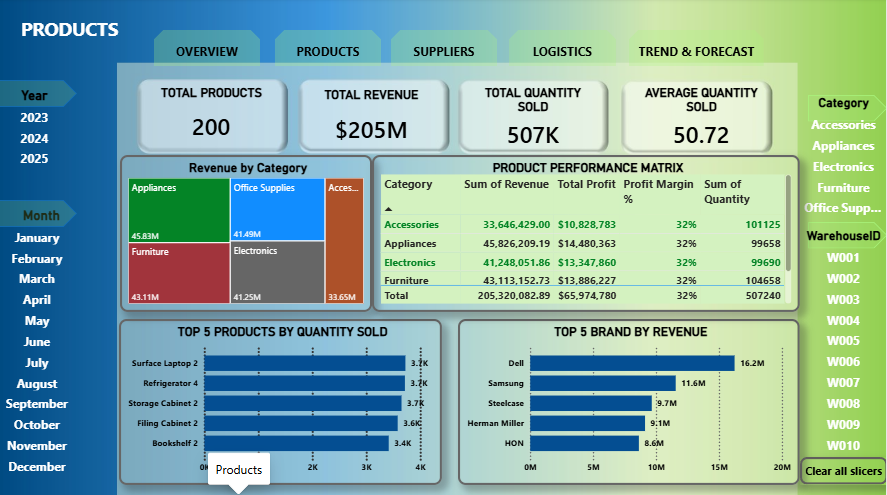

This screenshot's page, from the dashboard's own definition file:
{"tool":"powerbi","page":{"name":"Products","canvas":[1280,720],"ordinal":1},"visuals":[{"type":"shape","box":[0,118.1,113.8,38.9],"z":0},{"type":"listSlicer","fields":{"Values":["DimDATE.Year"]},"box":[0,128.2,105.1,149.8],"z":1000},{"type":"listSlicer","fields":{"Values":["DimDATE.Month"]},"box":[0,301,125.3,398.9],"z":2000},{"type":"shape","box":[0,290.9,113.8,38.9],"z":3000},{"type":"shape","box":[1166.3,139,114.1,38],"z":4000},{"type":"listSlicer","fields":{"Values":["DimProduct.Category"]},"box":[1154.6,139,125.9,221],"z":5000},{"type":"shape","box":[1166.3,322,114.1,38],"z":6000},{"type":"listSlicer","fields":{"Values":["DimWarehouse.WarehouseID"]},"box":[1154.6,330.7,125.9,370.2],"z":7000},{"type":"cardVisual","title":"TOTAL PRODUCTS","fields":{"Data":["DimProduct.Total Products"]},"box":[216,125.3,182.9,93.6],"z":8000},{"type":"actionButton","box":[224.6,46.1,152.6,51.8],"z":9000},{"type":"actionButton","box":[398.9,46.1,152.6,51.8],"z":10000},{"type":"actionButton","box":[565.9,46.1,152.6,51.8],"z":11000},{"type":"actionButton","box":[735.8,46.1,154.1,51.8],"z":12000},{"type":"actionButton","box":[908.6,46.1,194.4,51.8],"z":13000},{"type":"cardVisual","title":"TOTAL REVENUE","fields":{"Data":["FactSupplyChain.Total Revenue"]},"box":[449.3,128.2,177.1,97.9],"z":14000},{"type":"cardVisual","title":"TOTAL QUANTITY SOLD","fields":{"Data":["FactSupplyChain.Total Quantity Sold"]},"box":[675.4,125.3,190.1,93.6],"z":15000},{"type":"cardVisual","title":"AVERAGE QUANTITY SOLD","fields":{"Data":["DimProduct.Average Order Quantity"]},"box":[908.6,125.3,208.8,93.6],"z":16000},{"type":"treemap","title":"Revenue by Category","fields":{"Group":["DimProduct.Category"],"Values":["DimProduct.Product Revenue"]},"box":[175.7,226.1,362.9,226.1],"z":17000},{"type":"barChart","title":"TOP 5 BRAND BY REVENUE","fields":{"Y":["Sum(FactSupplyChain.Revenue)"],"Category":["DimProduct.Brand"]},"box":[662.9,462.4,491.7,238.5],"z":18000},{"type":"barChart","title":"TOP 5 PRODUCTS BY QUANTITY SOLD","fields":{"Category":["DimProduct.ProductName"],"Y":["DimProduct.Quantity Sold"]},"box":[174.1,462.4,465.4,238.5],"z":19000},{"type":"tableEx","title":"PRODUCT PERFORMANCE MATRIX","fields":{"Values":["DimProduct.Category","Sum(FactSupplyChain.Revenue)","FactSupplyChain.Total Profit","FactSupplyChain.Profit Margin %","Sum(FactSupplyChain.Quantity)"]},"box":[538.6,226.1,616.3,226.1],"z":20000},{"type":"textbox","box":[0,20.2,205.9,51.8],"z":21000},{"type":"actionButton","box":[1154.6,661.5,125.9,39.5],"z":22000}]}

Visuals, with their boxes in screenshot pixels (x1, y1, x2, y2), scaled from the page's 1280x720 canvas onto the 887x495 screenshot:
shape: <box>0,81,79,108</box>
listSlicer - DimDATE.Year: <box>0,88,73,191</box>
listSlicer - DimDATE.Month: <box>0,207,87,481</box>
shape: <box>0,200,79,227</box>
shape: <box>808,96,886,122</box>
listSlicer - DimProduct.Category: <box>800,96,886,248</box>
shape: <box>808,221,886,248</box>
listSlicer - DimWarehouse.WarehouseID: <box>800,227,886,482</box>
"TOTAL PRODUCTS" cardVisual: <box>150,86,276,150</box>
actionButton: <box>156,32,261,67</box>
actionButton: <box>276,32,382,67</box>
actionButton: <box>392,32,498,67</box>
actionButton: <box>510,32,617,67</box>
actionButton: <box>630,32,764,67</box>
"TOTAL REVENUE" cardVisual: <box>311,88,434,155</box>
"TOTAL QUANTITY SOLD" cardVisual: <box>468,86,600,150</box>
"AVERAGE QUANTITY SOLD" cardVisual: <box>630,86,774,150</box>
"Revenue by Category" treemap: <box>122,155,373,311</box>
"TOP 5 BRAND BY REVENUE" barChart: <box>459,318,800,482</box>
"TOP 5 PRODUCTS BY QUANTITY SOLD" barChart: <box>121,318,443,482</box>
"PRODUCT PERFORMANCE MATRIX" tableEx: <box>373,155,800,311</box>
textbox: <box>0,14,143,50</box>
actionButton: <box>800,455,886,482</box>
